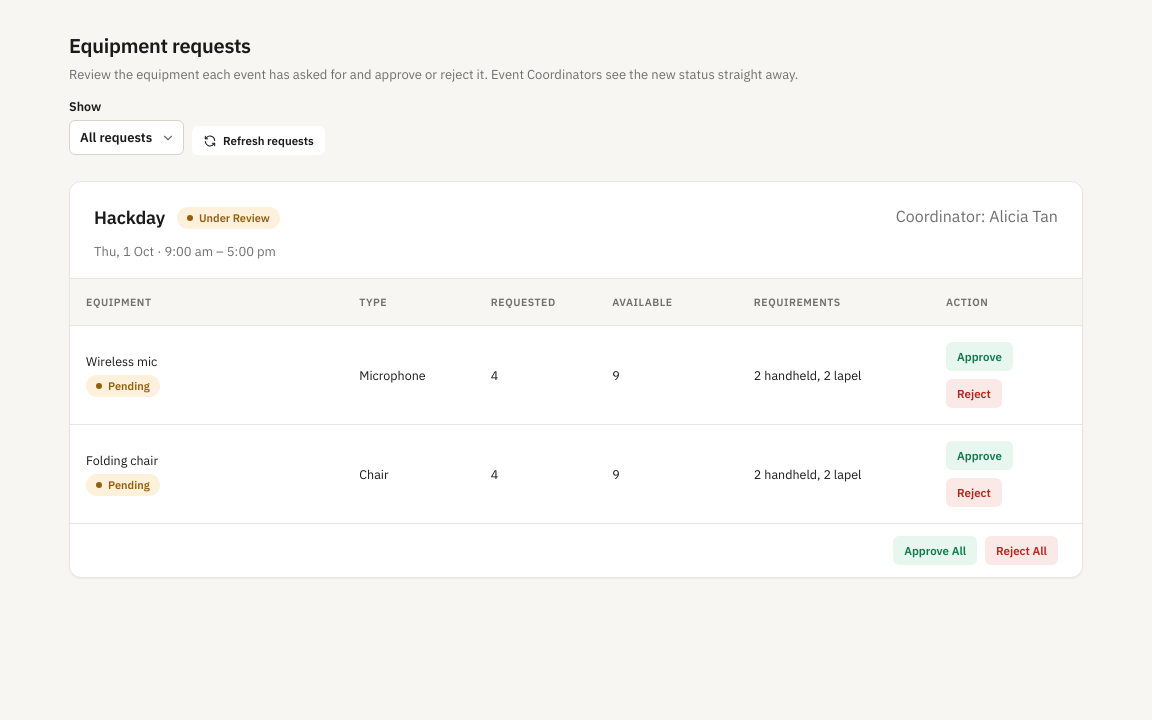
it: AC2: rejecting one row under the All filter updates only that row and removes its buttons
This screenshot has width=1152, height=720.
expect the text "Folding chair" is shown: met, box 86,452 -> 158,468
Click the button "Reject" in the row of "Microphone": click(974, 393) 946,379 -> 1002,408
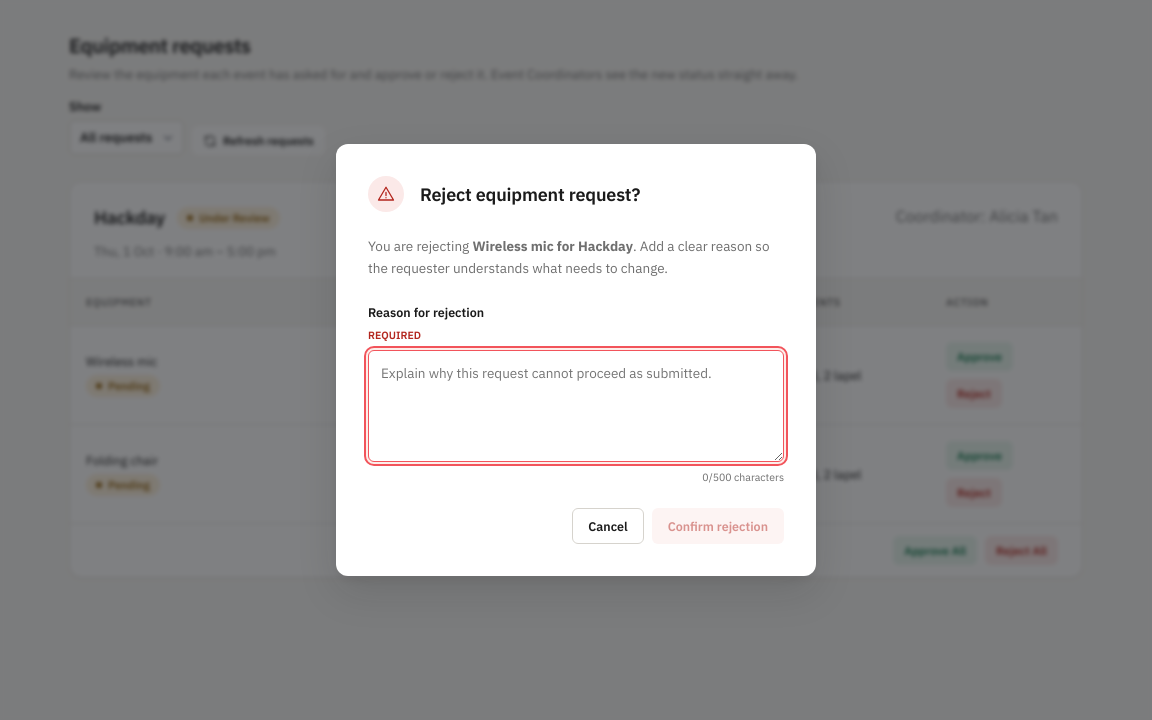
expect the button "Confirm rejection" is disabled: met, box 652,508 -> 784,544
In the text box labelled "Reason for rejection Required 0/500 characters": (576, 406) 368,350 -> 784,462, type "  No technician available.  "
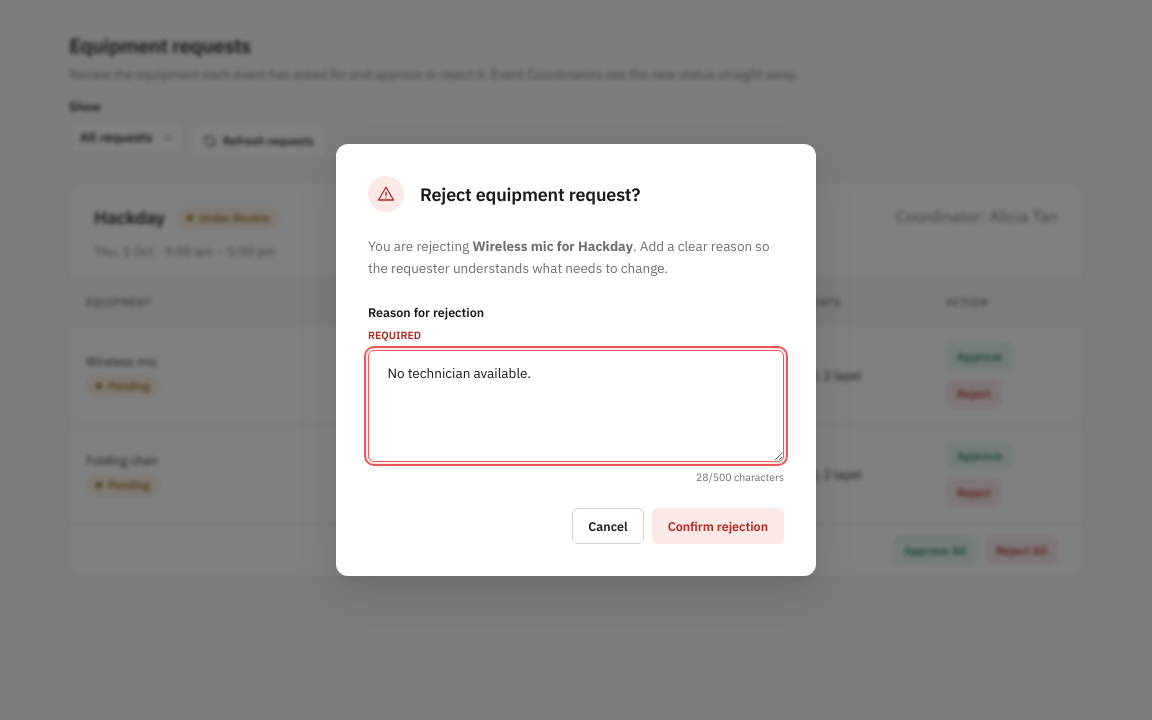
Click the button "Confirm rejection": click(718, 526) 652,508 -> 784,544
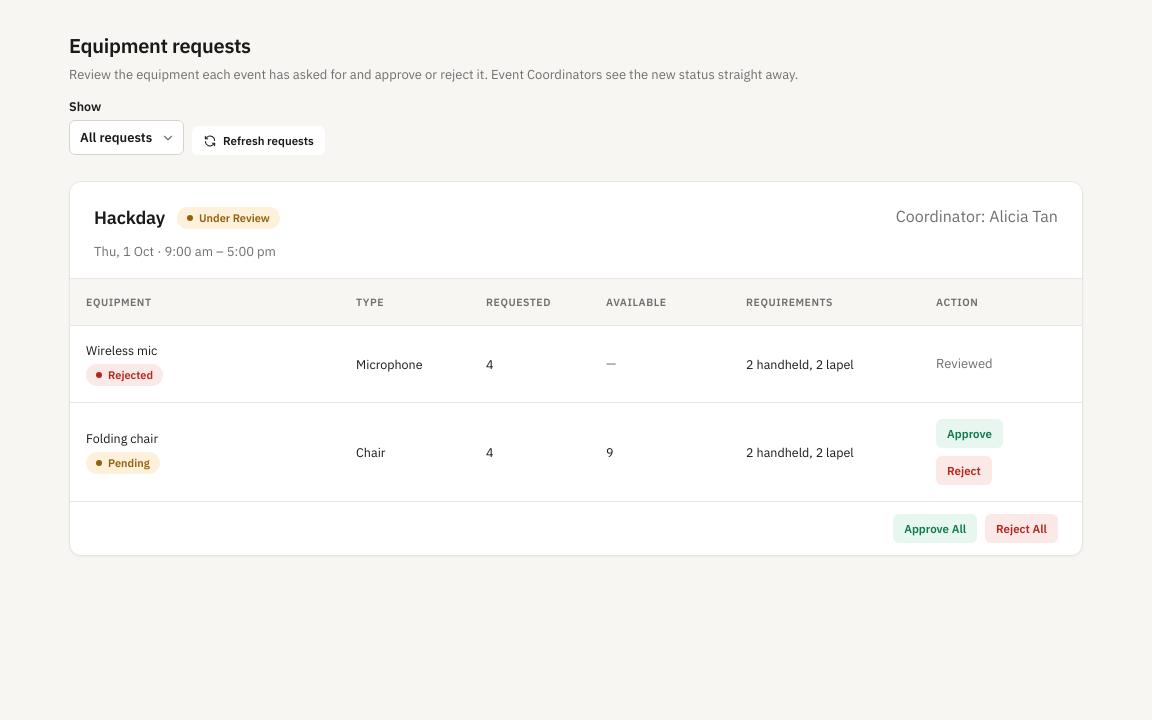
expect the dialog is gone: met
expect the number of buttons "Reject" is 1: met, box 936,456 -> 992,485
expect the text "Reviewed" is shown: met, box 936,355 -> 993,372
